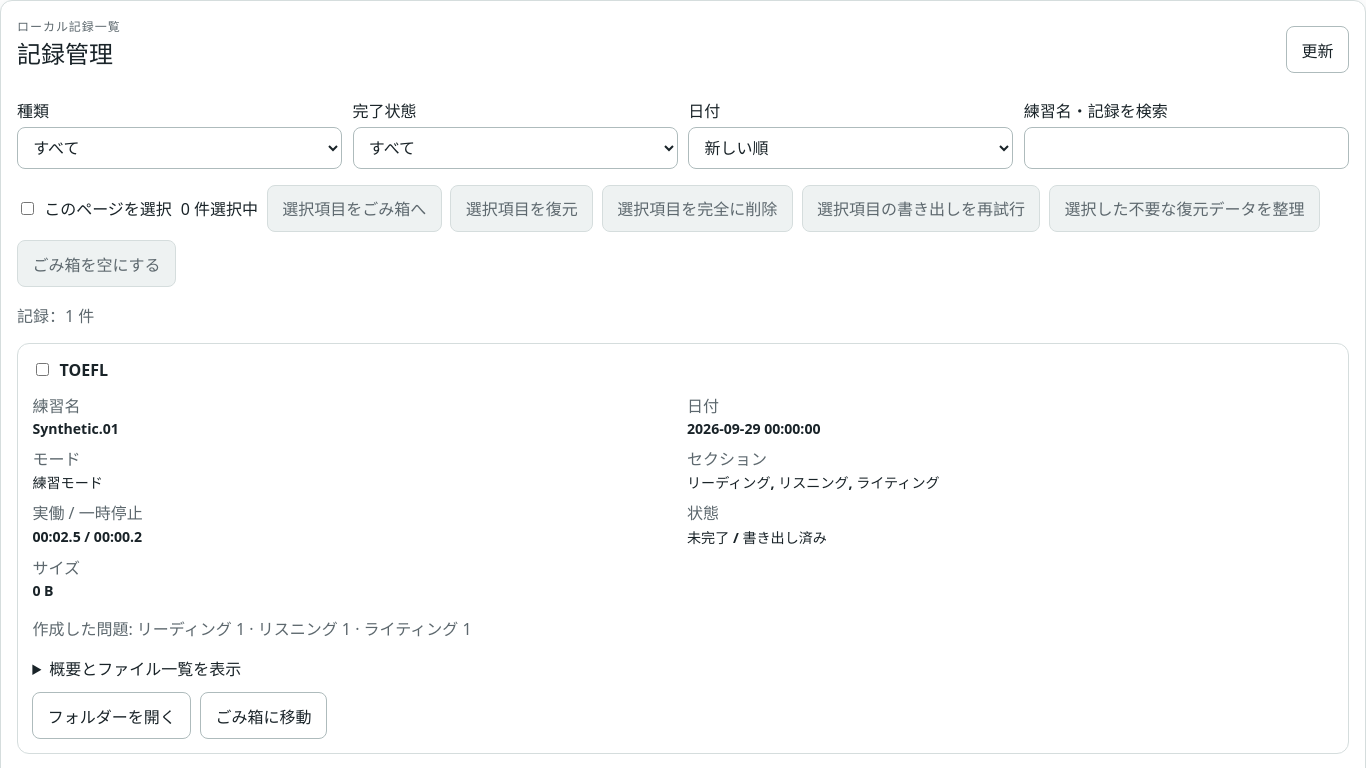
R009 current Settings and Record Manager › keeps record identity accessible but collapsed in ja
The image size is (1366, 768).
Expected: the text "Synthetic.01" is shown, top-left (32, 419), bottom-right (119, 438)
Expected: the text "Session ID: synthetic-v100-v6" is not shown
Click the heading "概要とファイル一覧を表示". click: point(145, 669)
box: top-left (49, 658), bottom-right (241, 680)
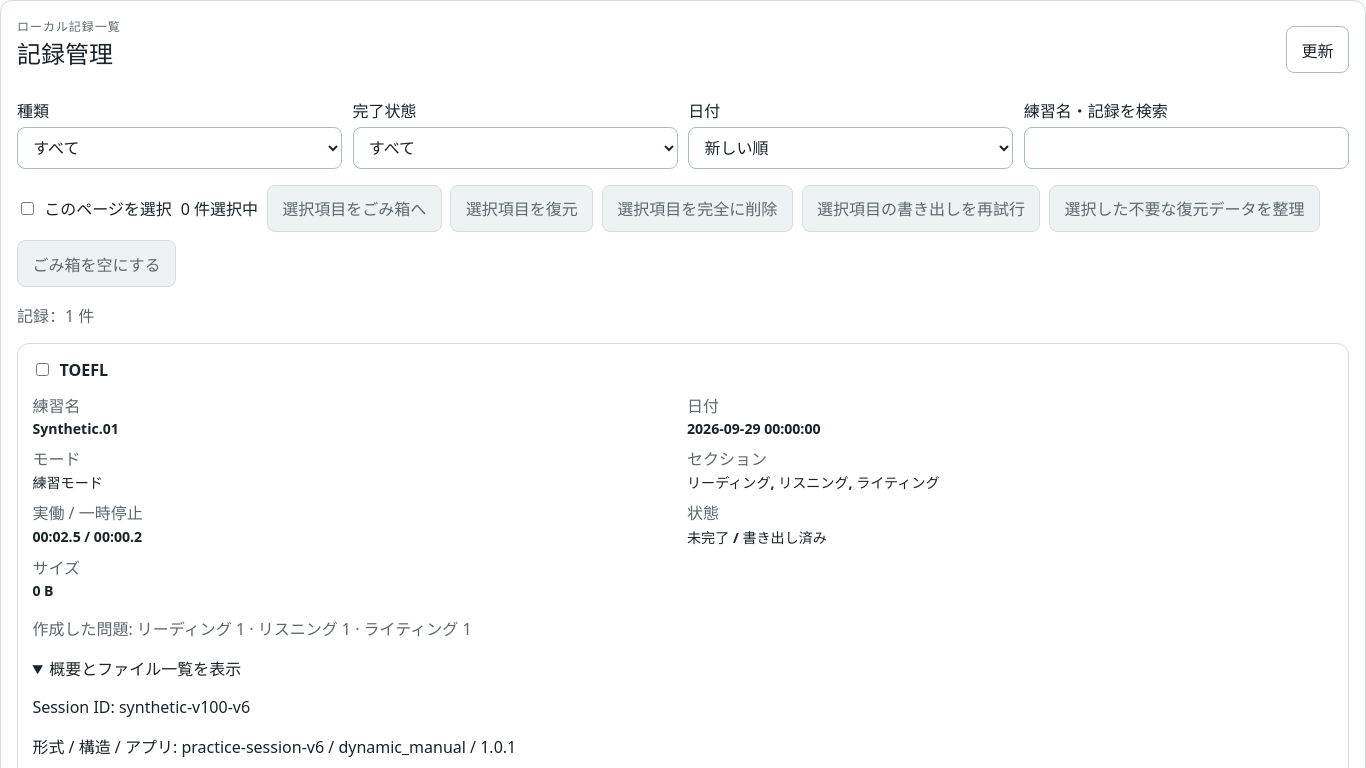
Expected: the text "Session ID: synthetic-v100-v6" is shown, top-left (32, 696), bottom-right (250, 718)
Expected: the text "形式 / 構造 / アプリ: practice-session-v6 / dynamic_manual / 1.0.1" is shown, top-left (32, 736), bottom-right (516, 758)
